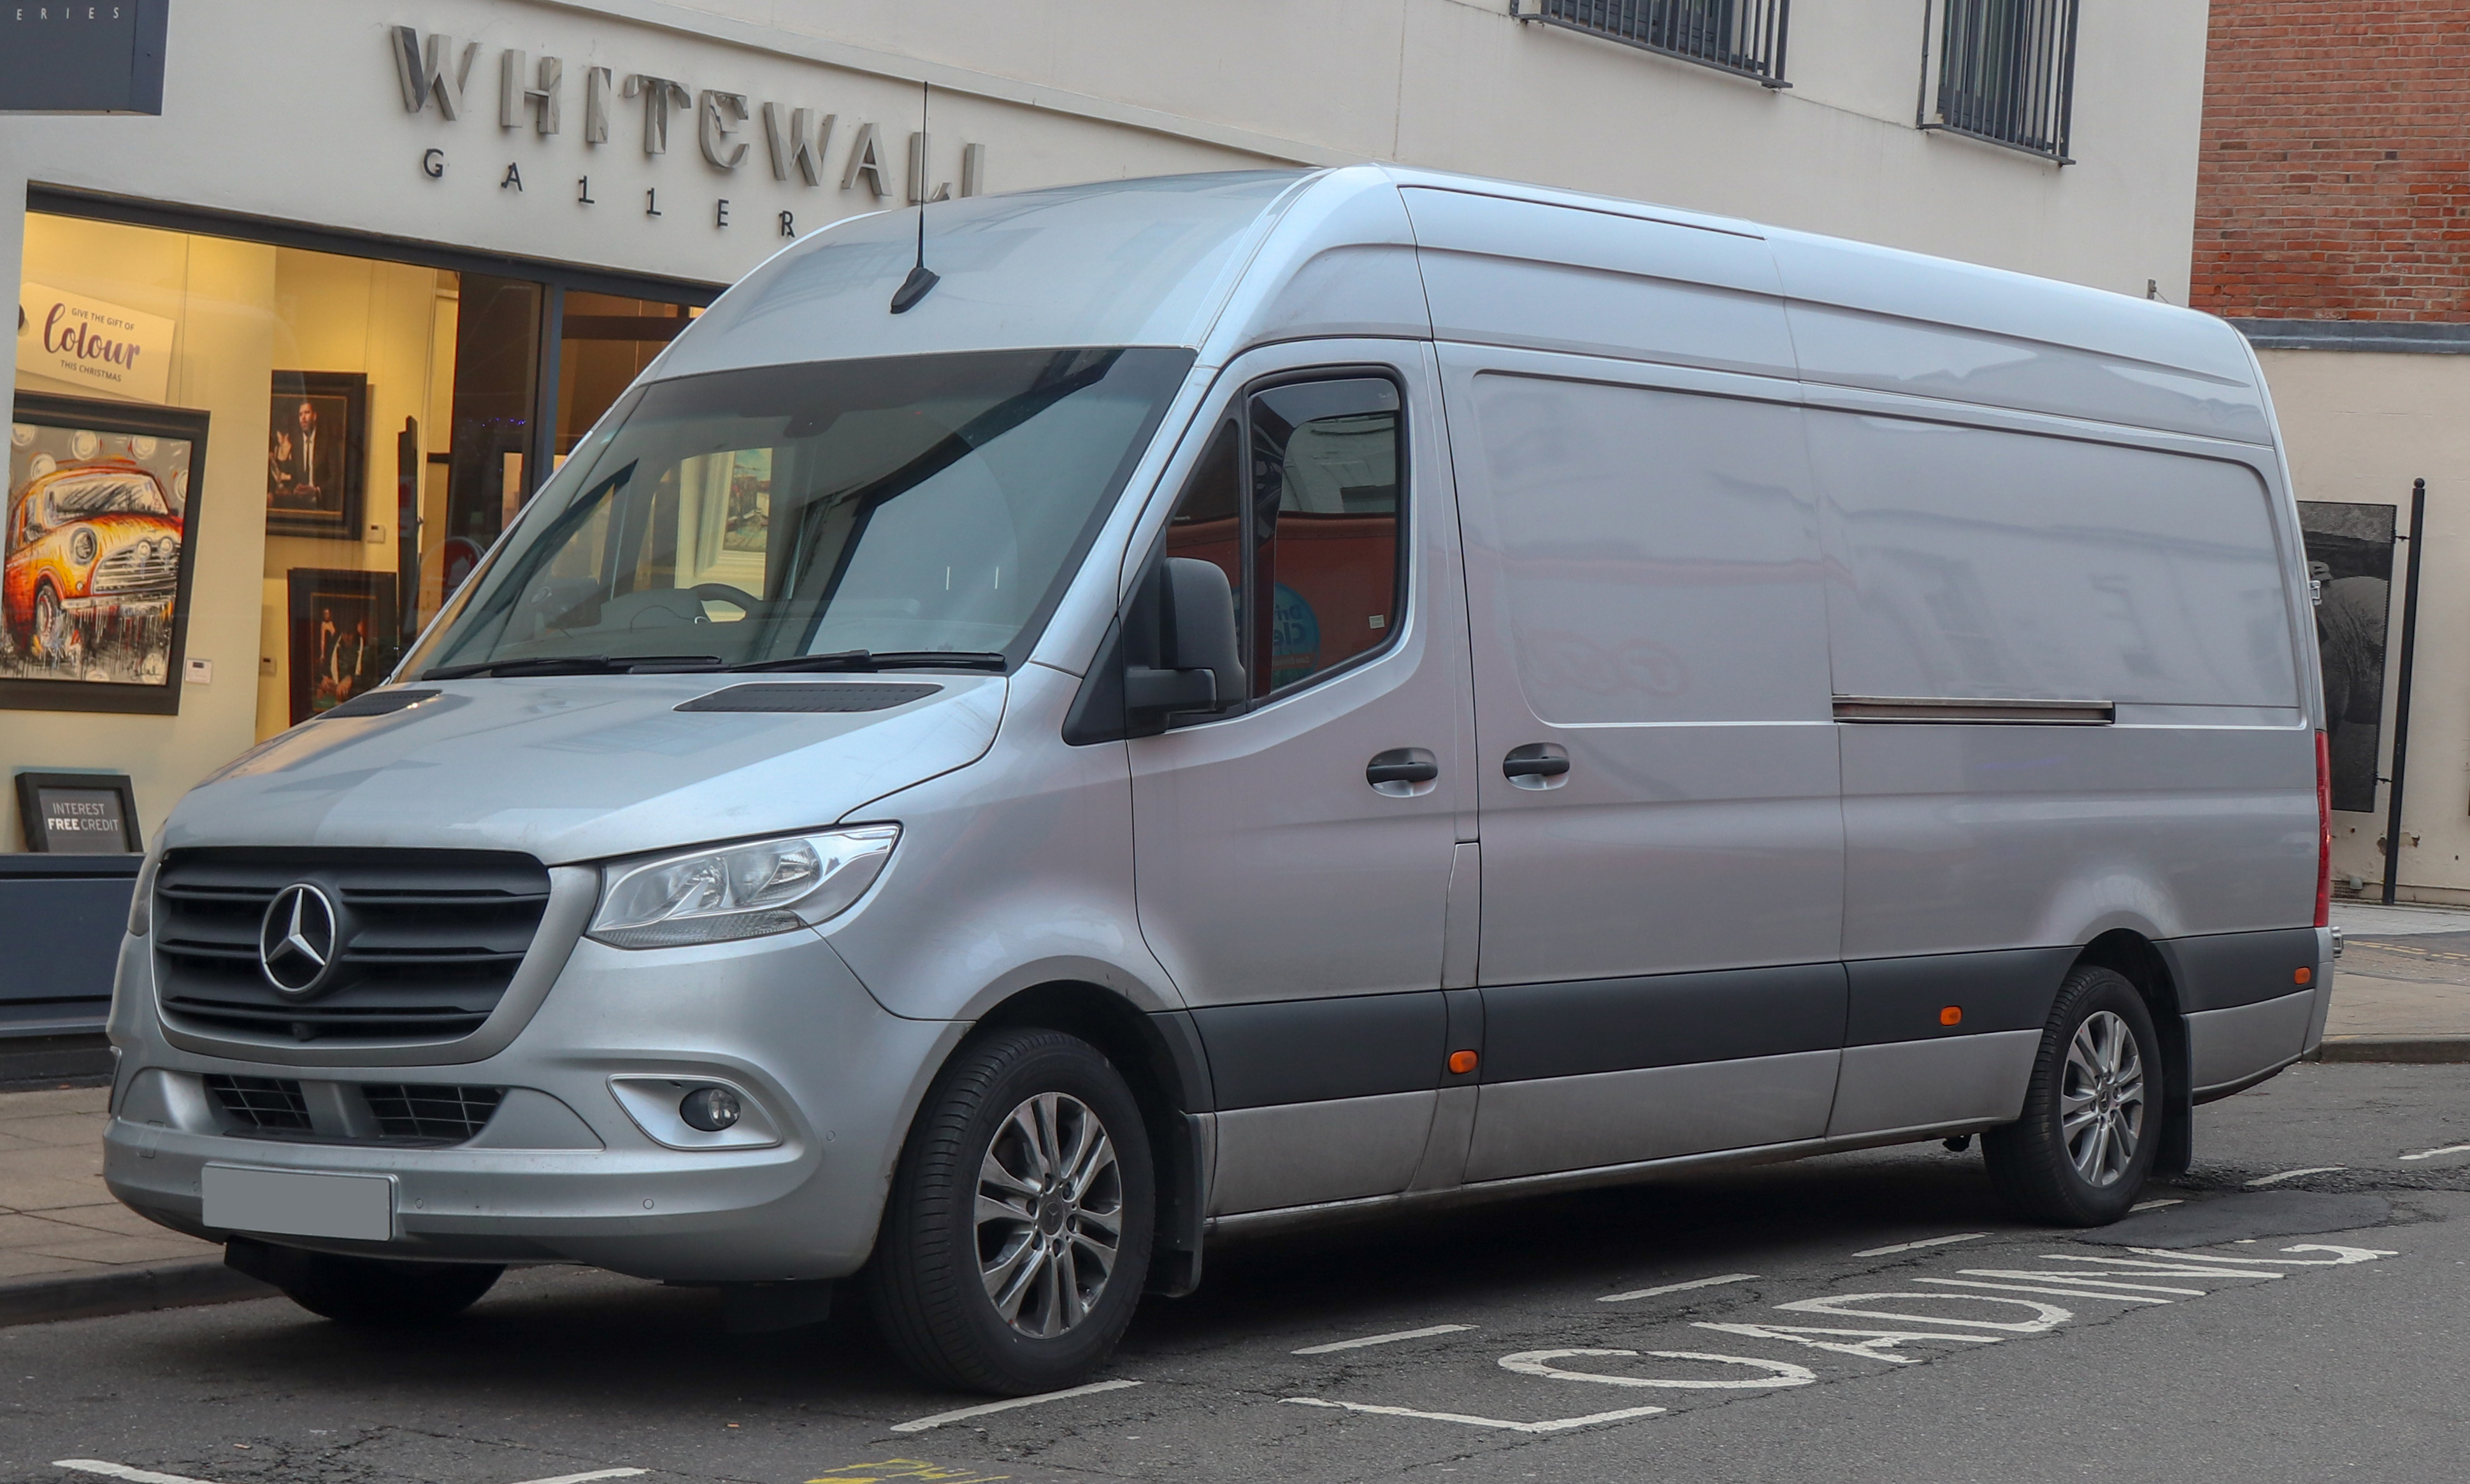van: (92, 159, 2357, 1392)
